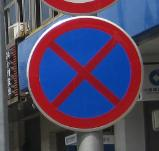No Parking: (27, 17, 143, 130)
